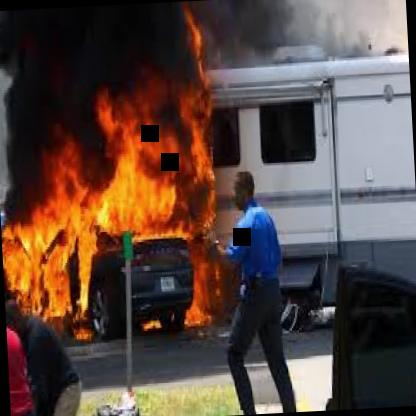fire: (0, 13, 219, 327)
